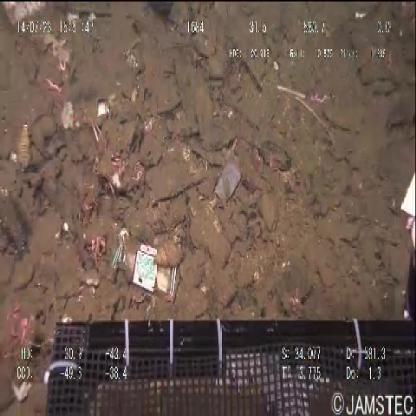Rác: (107, 226, 181, 306), (212, 159, 242, 209)
